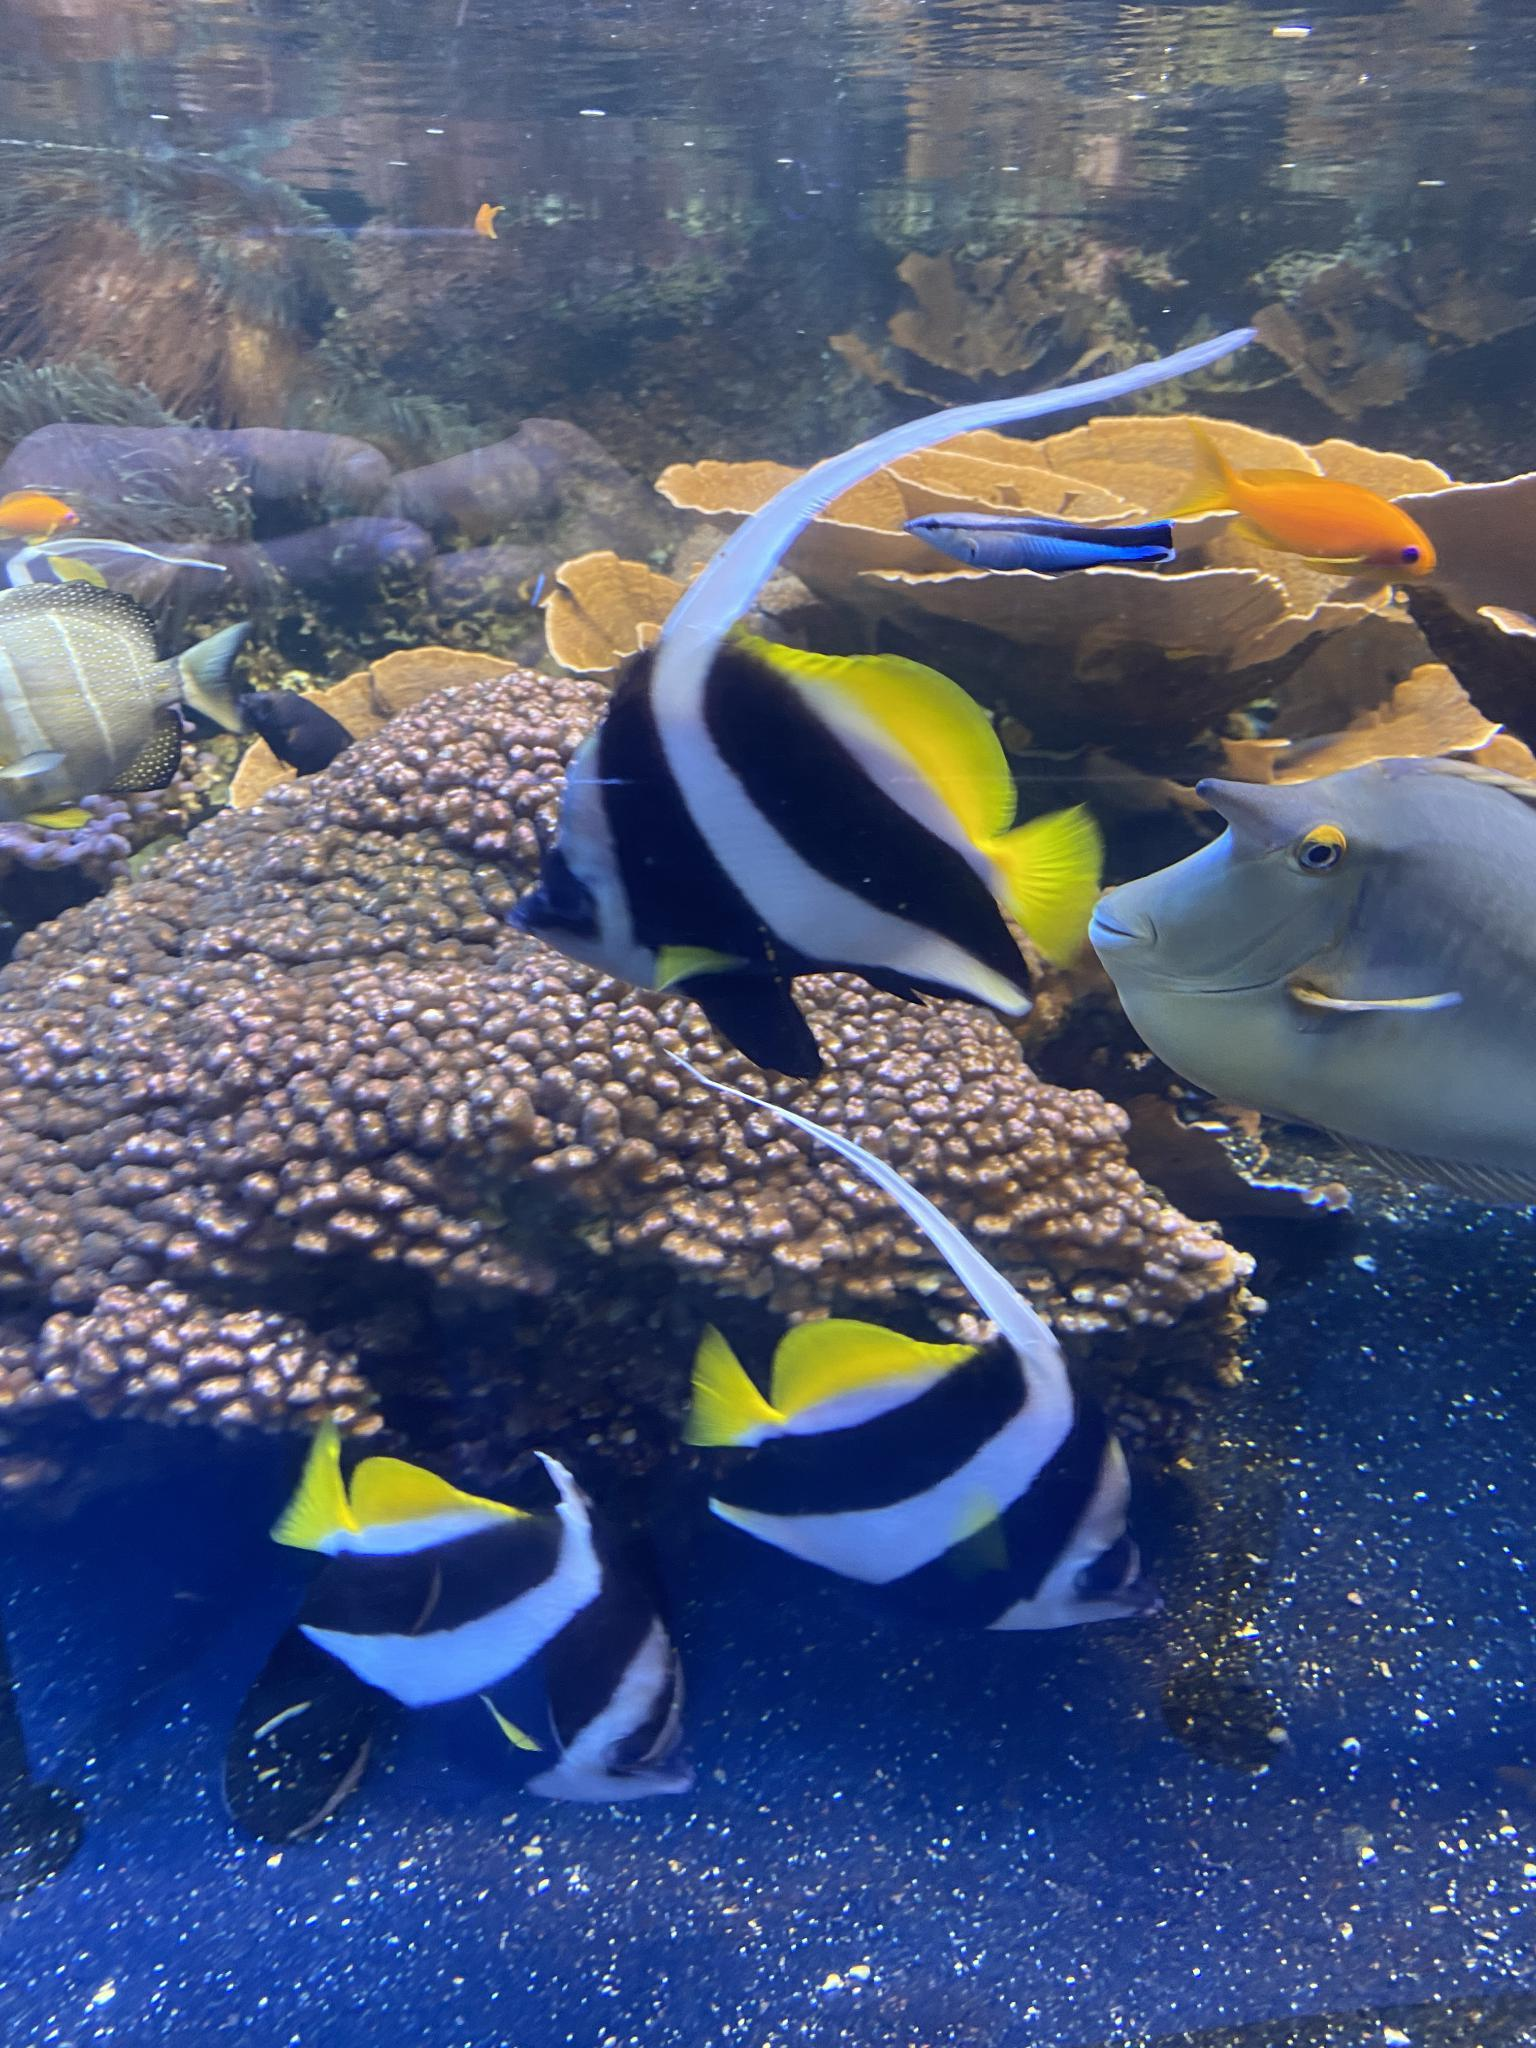fish: (507, 593, 1050, 1092), (1084, 768, 1534, 1184), (678, 1280, 1176, 1637), (274, 1422, 697, 1813), (0, 581, 253, 806), (905, 456, 1189, 585), (1192, 434, 1430, 579), (0, 482, 86, 543)
